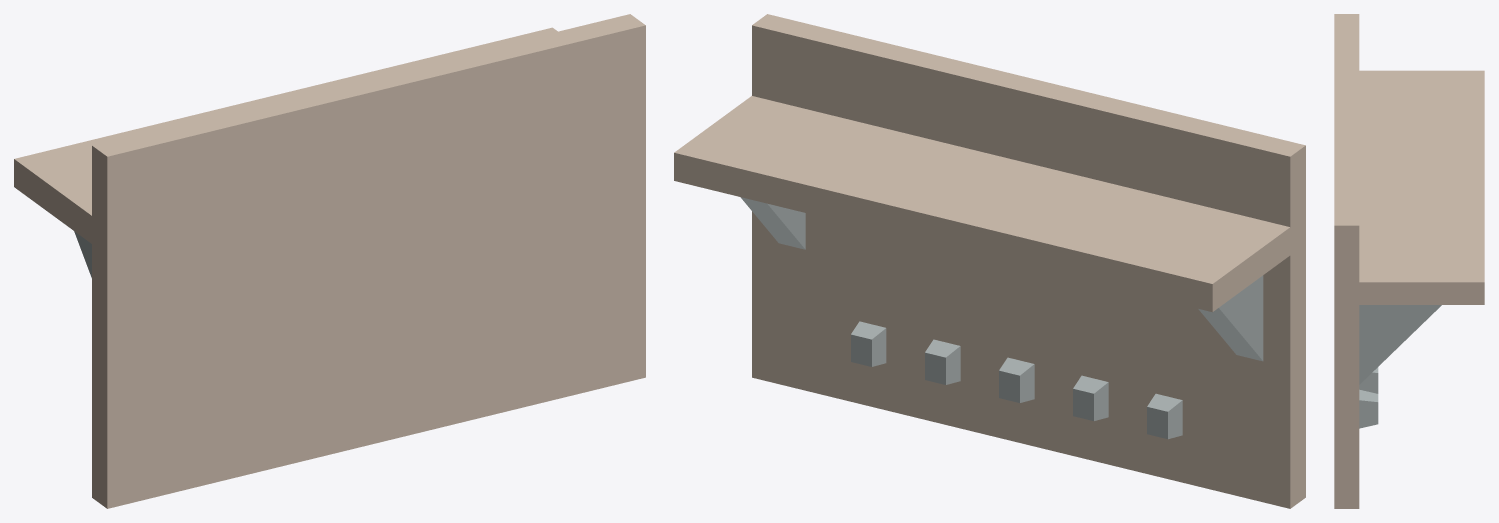
Rendered from furn_coatRack.glb.
The picture shows the model from 3 angles, left to right: view 1: azimuth 30°, elevation 25°; view 2: azimuth 150°, elevation 25°; view 3: azimuth 270°, elevation 25°; orthographic projection. The views are drawn at different scales.
Size of the model in its own units: 0.896 by 0.56 by 0.2688.
